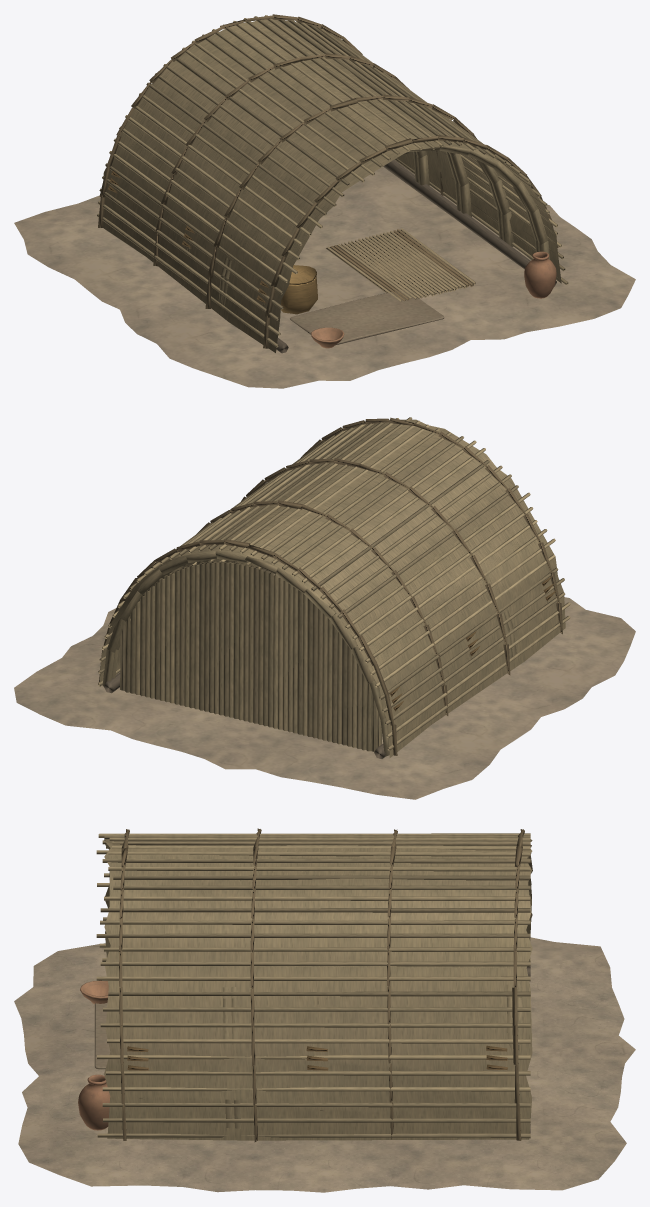
The model's file is reedCamp.glb.
3 views of the same model, one above another, from view 1: azimuth 30°, elevation 25°; view 2: azimuth 150°, elevation 25°; view 3: azimuth 270°, elevation 25° (orthographic). The views are drawn at different scales.
Parts seen in each view (by area): view 1: reedCamp; view 2: reedCamp; view 3: reedCamp.
Part boxes in pixels (box(x1,y1,x2,y2)): reedCamp: box(14, 14, 635, 388); reedCamp: box(14, 417, 635, 799); reedCamp: box(14, 828, 635, 1192).
Bounding box in the file's own units: 4.97 × 1.96 × 5.06.
5 materials, 5 textured.
